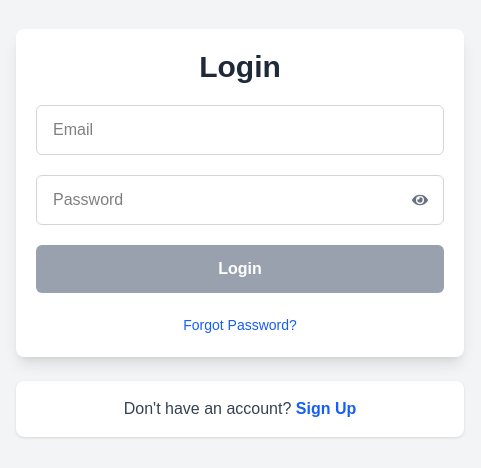
Test: Auth Component › switches to signup mode
The width and height of the screenshot is (481, 468).
Click the text "Sign Up" at (326, 408), box x1=296 y1=400 x2=356 y2=417
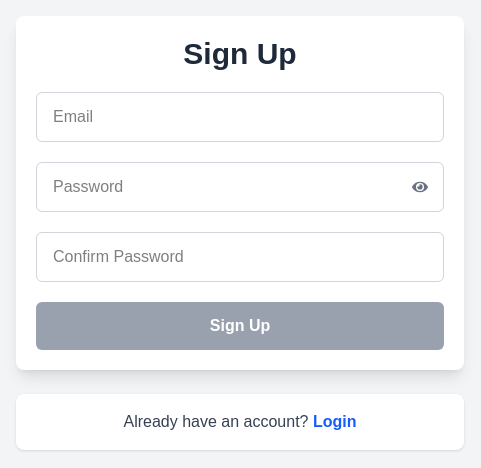
Check: the password field with placeholder "Confirm Password" is shown, box x1=36 y1=232 x2=444 y2=282
